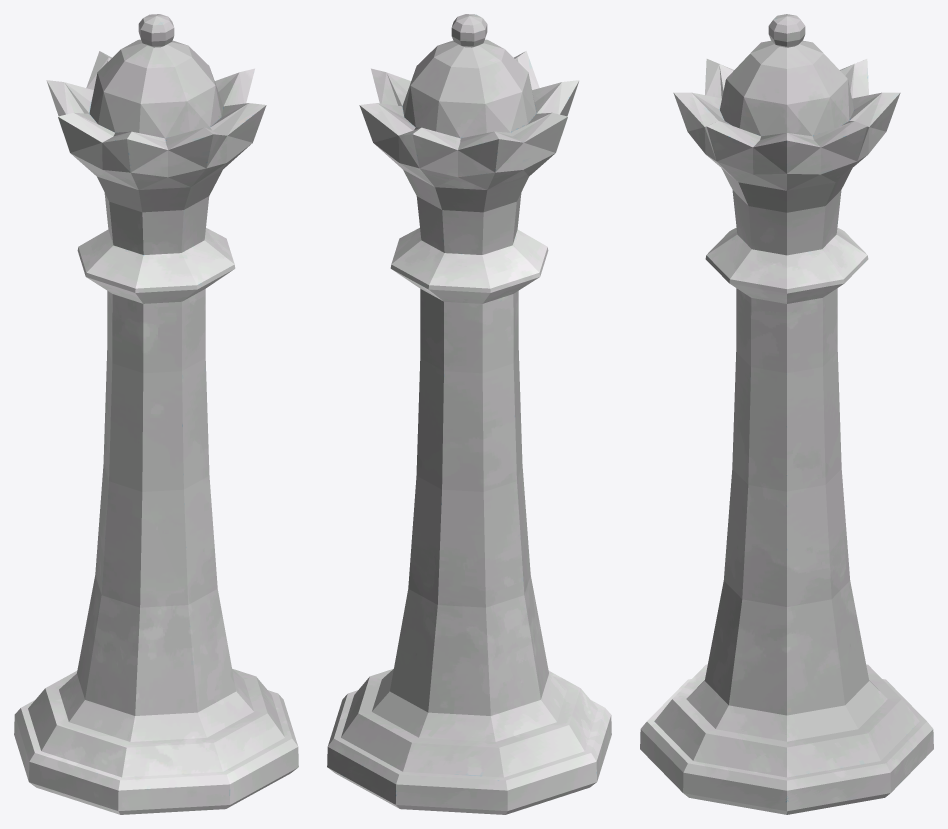
Rendered from Queen.fbx.
The picture shows the model from 3 angles, left to right: view 1: azimuth 30°, elevation 25°; view 2: azimuth 150°, elevation 25°; view 3: azimuth 270°, elevation 25°; orthographic projection.
Visible parts, largest first — view 1: node_id34; view 2: node_id34; view 3: node_id34.
Boxes of the visible parts, x1=… form: node_id34: x1=14, y1=14, x2=298, y2=814; node_id34: x1=327, y1=14, x2=611, y2=814; node_id34: x1=640, y1=14, x2=933, y2=814.
Size of the model in its own units: 229 by 636 by 229.
